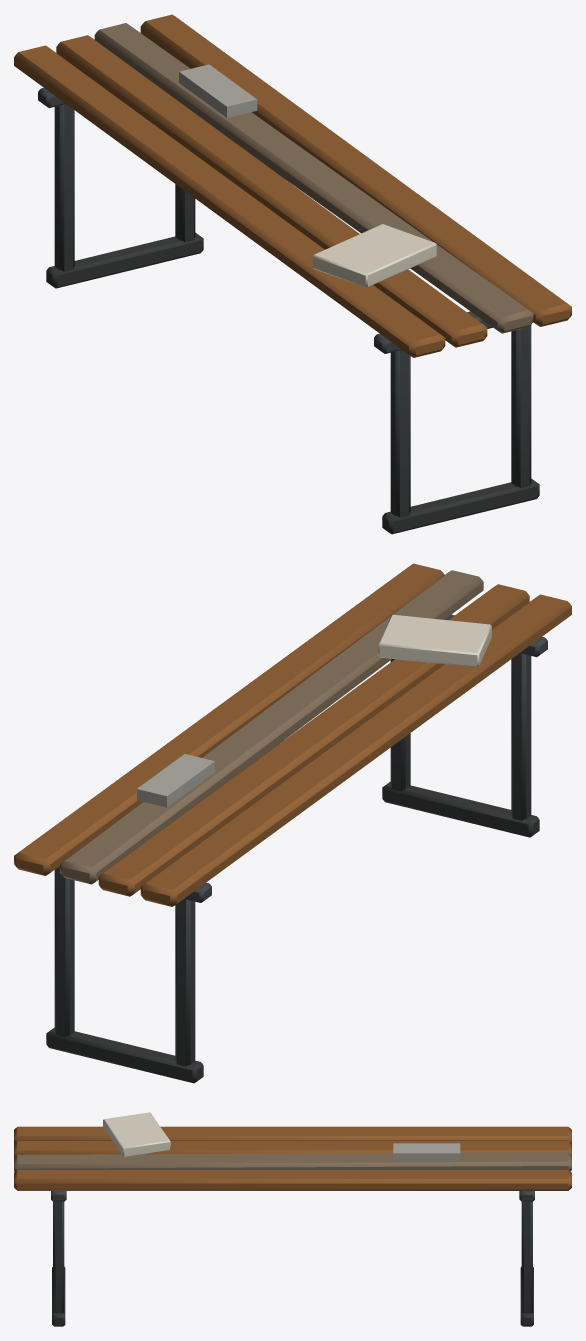
File: 88_banc_attente.fbx
The picture shows the model from 3 angles, top to bottom: view 1: azimuth 30°, elevation 25°; view 2: azimuth 150°, elevation 25°; view 3: azimuth 270°, elevation 25°; orthographic projection. The views are drawn at different scales.
Visible parts, largest first — view 1: Banc; view 2: Banc; view 3: Banc.
Part boxes in pixels (x1,y1,x2,y2): Banc: (14, 14, 571, 534); Banc: (14, 563, 571, 1083); Banc: (14, 1112, 571, 1326).
Size of the model in its own units: 0.336 by 0.448 by 1.4.
Materials: 1 (1 with a texture image).
